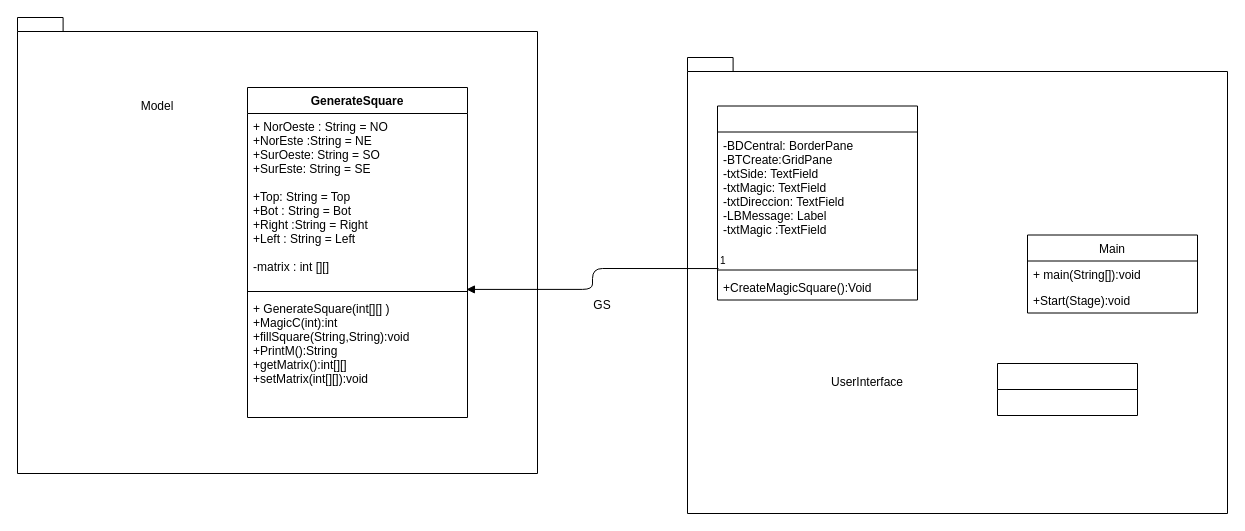
Image size: 1245x531. Some labels were removed from this diagram. The box of each missing label's shape, as (x1, y1, x2, y2) in pixels:
Laboratorio1.fxml: (996, 362, 1138, 416)
MainController: (716, 105, 918, 300)
